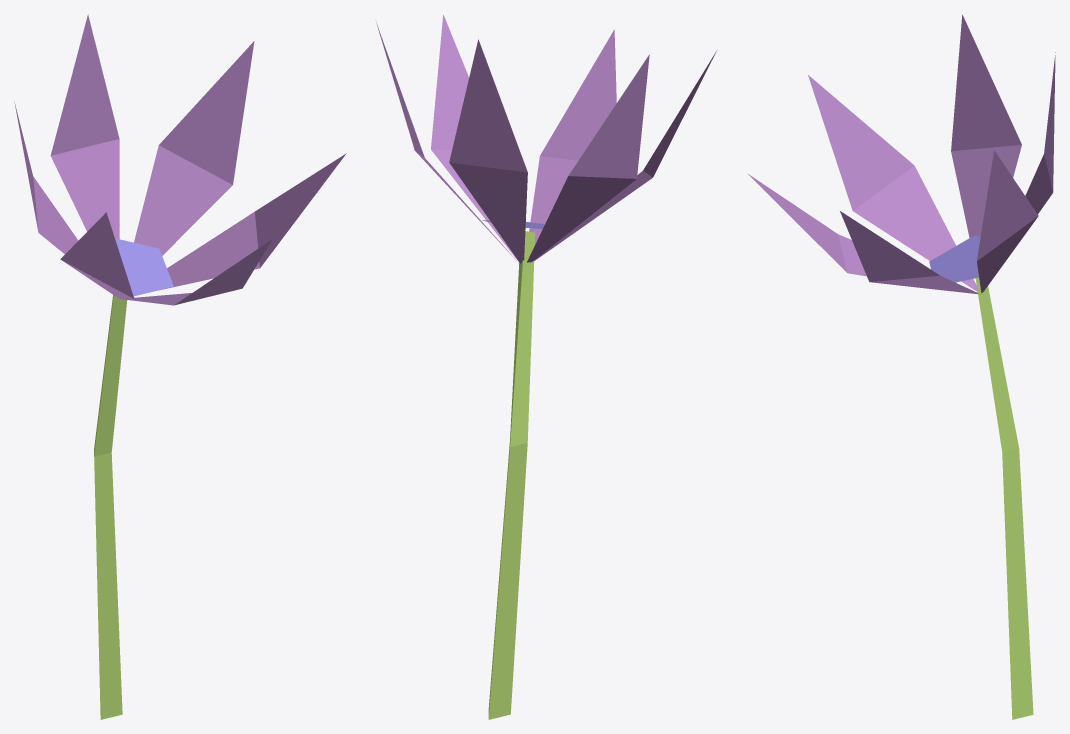
Rendered from Flower_b_OneS_01.fbx.
3 views of the same model, side by side, from view 1: azimuth 30°, elevation 25°; view 2: azimuth 150°, elevation 25°; view 3: azimuth 270°, elevation 25° (orthographic). The views are drawn at different scales.
Parts seen in each view (by area): view 1: Flower_b_OneS_01; view 2: Flower_b_OneS_01; view 3: Flower_b_OneS_01.
Part boxes in pixels (x1=…): Flower_b_OneS_01: x1=14, y1=14, x2=346, y2=719; Flower_b_OneS_01: x1=376, y1=15, x2=716, y2=719; Flower_b_OneS_01: x1=747, y1=14, x2=1055, y2=719.
Bounding box in the file's own units: 0.1904 × 0.4645 × 0.1964.
